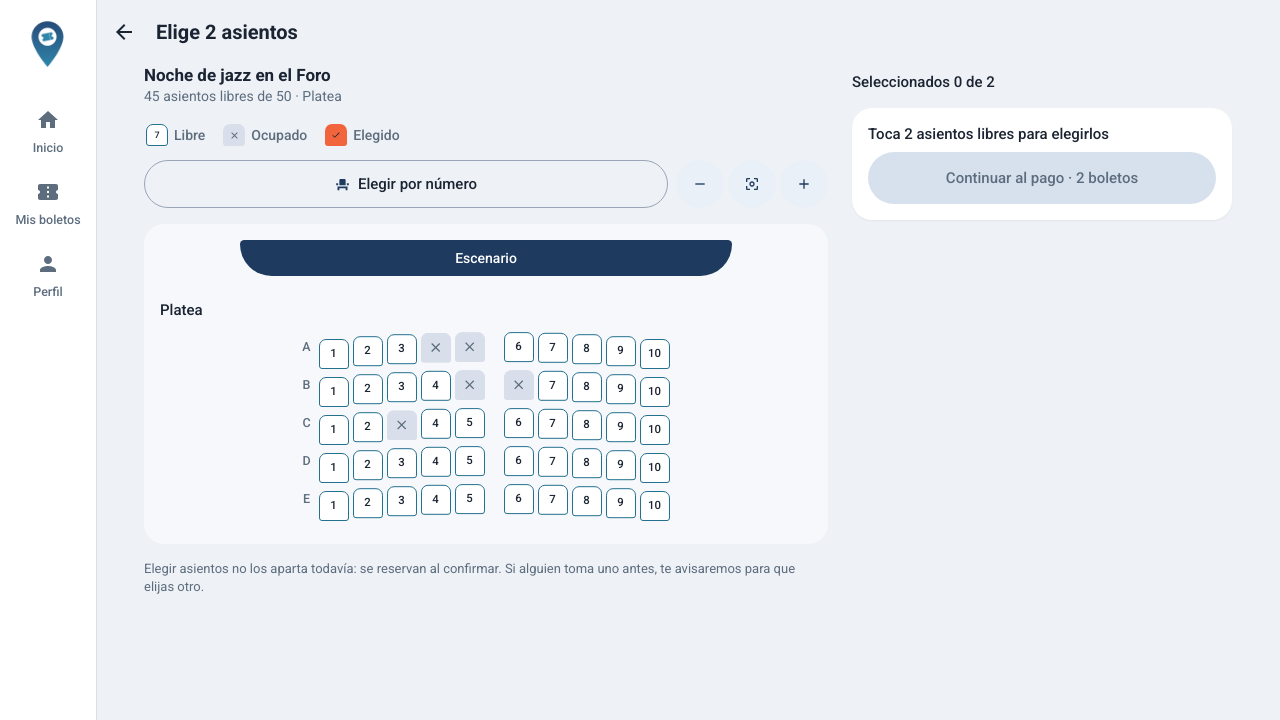
Scenario: compra con asientos y pago (RF-09, RF-11, CP-09, CP-10) › elige N asientos distintos, no permite más de N y conserva la selección en la URL
Expected: the checkbox named "fila A, asiento 4, ocupado" is disabled, left=420, top=333, right=450, bottom=363
Click the checkbox named "Platea, fila B, asiento 7, disponible". click: (552,386)
box: left=538, top=371, right=568, bottom=401
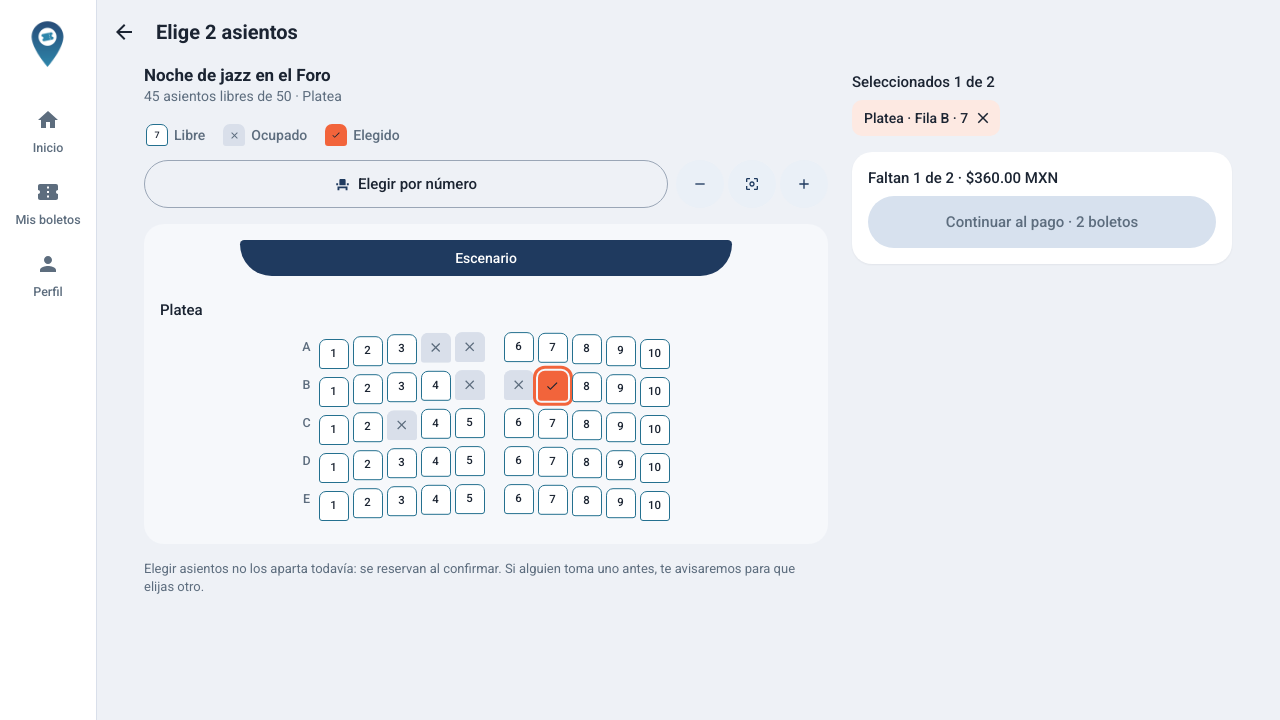
Click the checkbox named "fila B, asiento 8,". click: (586,387)
box: left=572, top=372, right=602, bottom=402
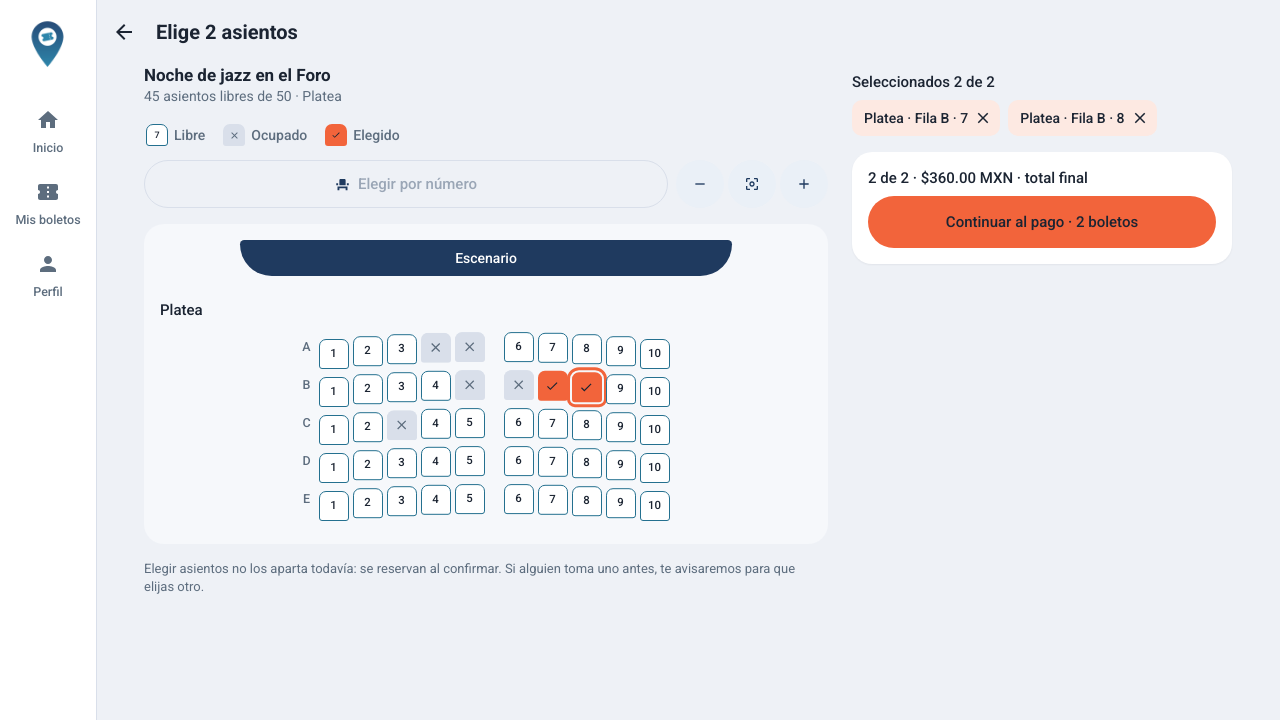
Expected: the heading "Seleccionados 2 de 2" is shown, left=852, top=73, right=995, bottom=91
Click the checkbox named "fila C, asiento 1,". click: (334,430)
box: left=318, top=415, right=348, bottom=445
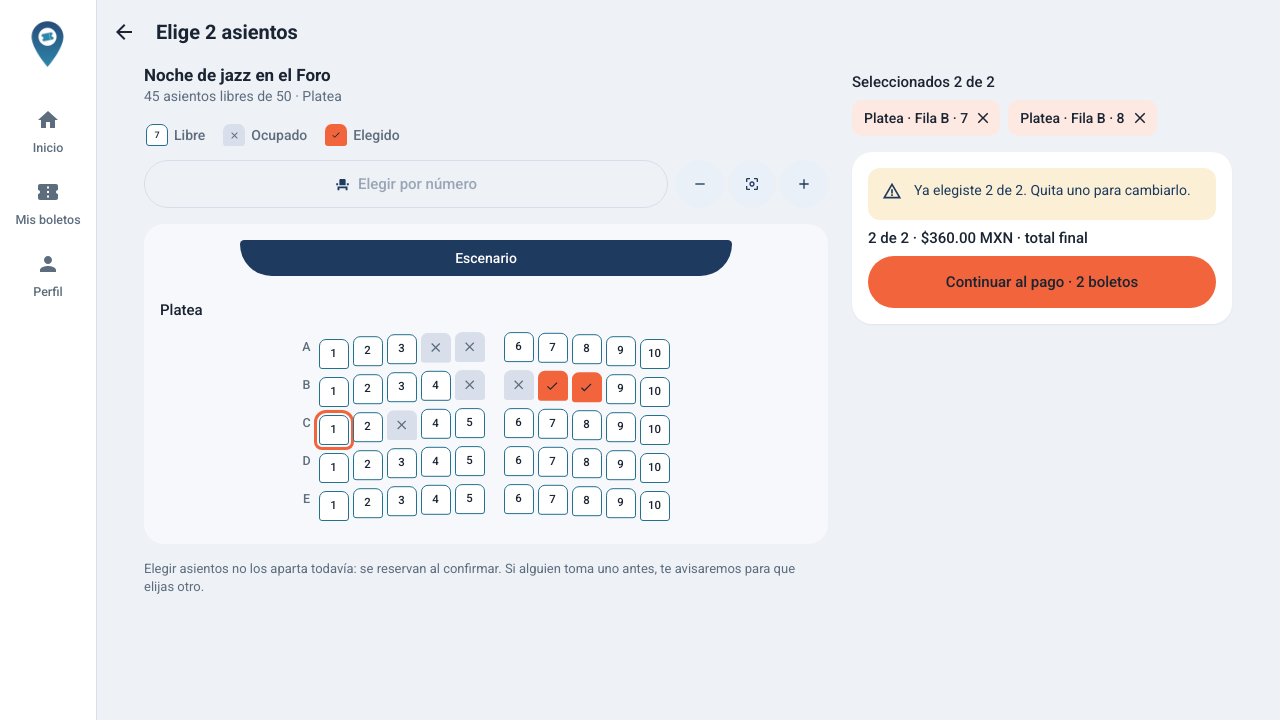
Expected: the text "Ya elegiste 2 de 2. Quita uno para cambiarlo." is shown, left=914, top=180, right=1191, bottom=200
Click the button "Continuar al pago · 2 boletos". click: (1042,282)
box: left=868, top=256, right=1216, bottom=308
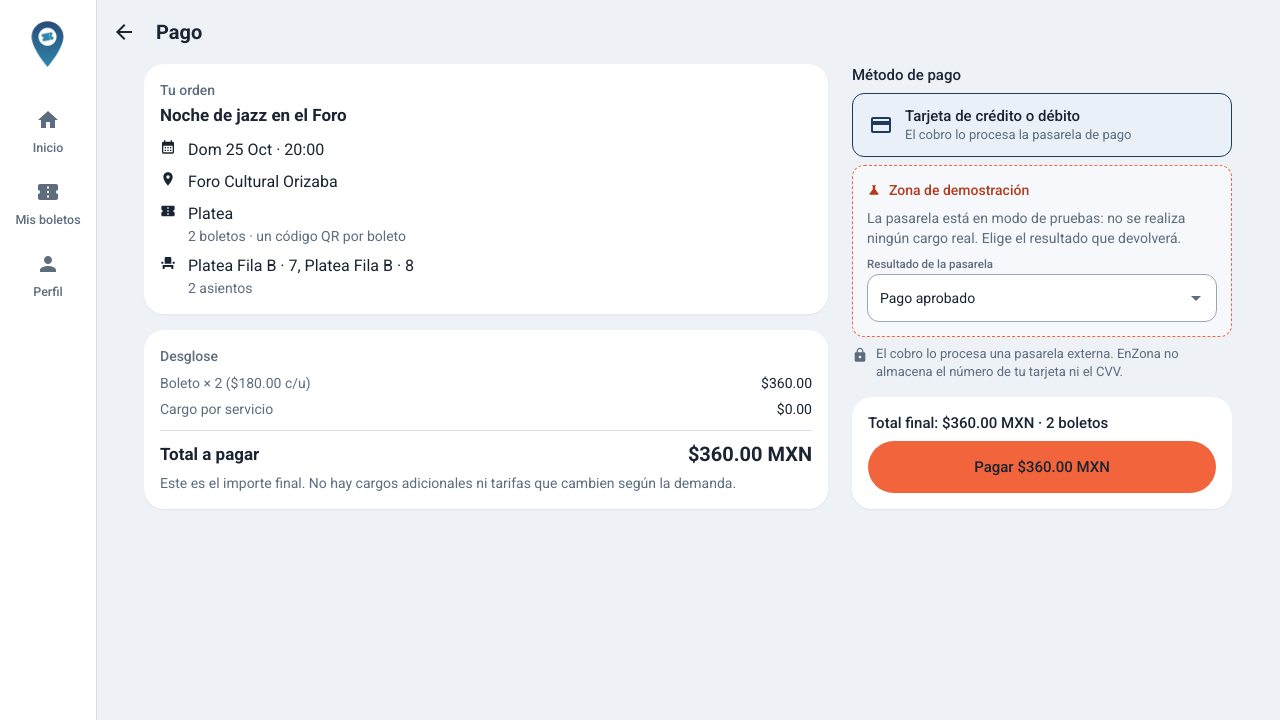
Expected: the text "$360.00 MXN" is shown, left=688, top=441, right=812, bottom=467
